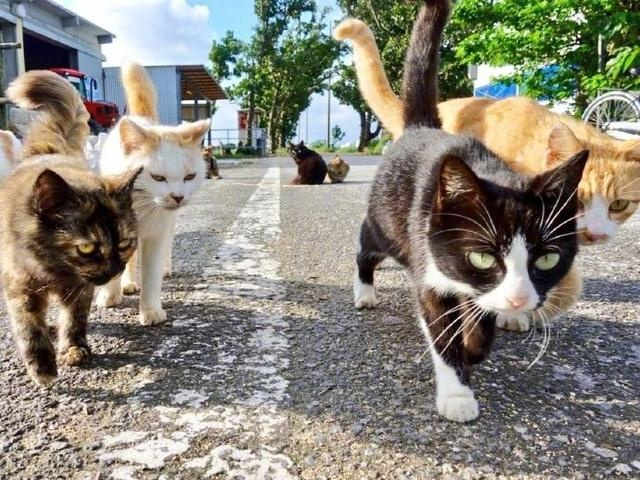cat: (357, 1, 590, 426), (332, 21, 640, 326), (1, 68, 136, 384), (97, 62, 210, 328), (286, 141, 327, 185)
